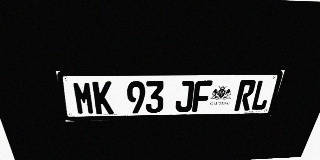3: (146, 81, 164, 113)
9: (127, 81, 145, 113)
F: (192, 80, 213, 112)
J: (175, 80, 195, 112)
K: (92, 81, 114, 114)
L: (250, 80, 274, 110)
M: (72, 81, 95, 115)
R: (234, 80, 257, 111)
